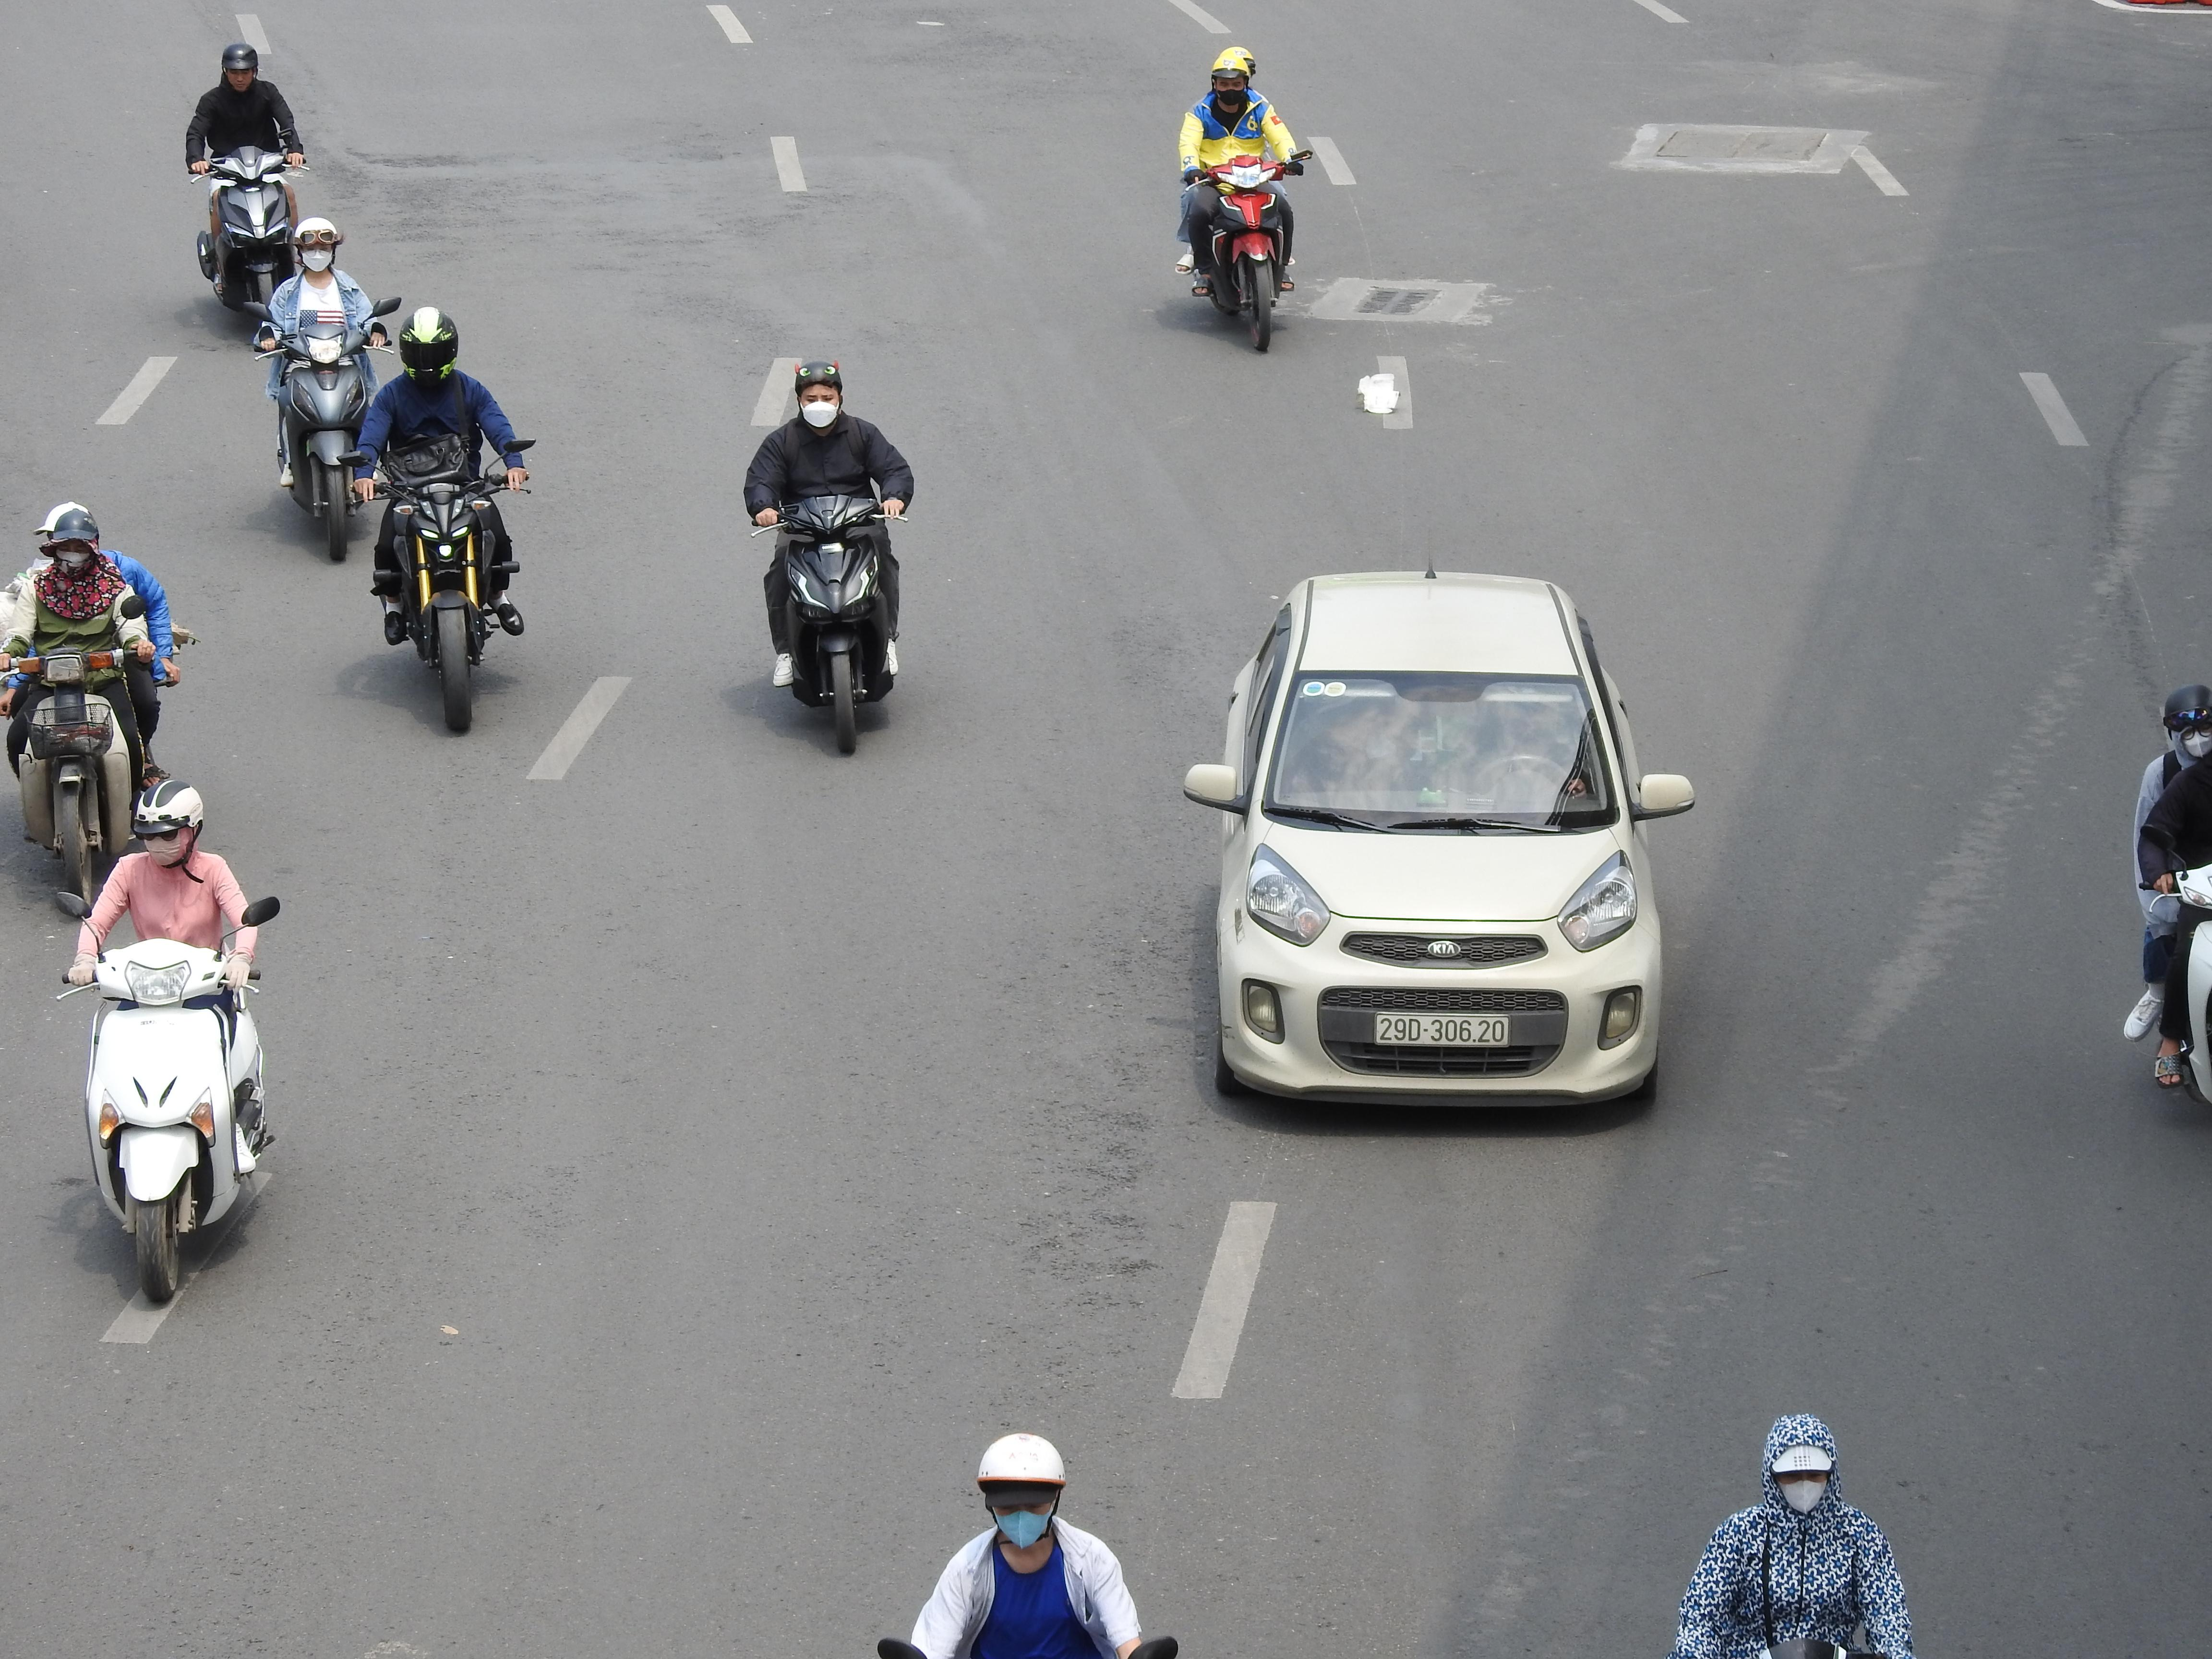BSD: (1374, 1012, 1510, 1047)
car: (1181, 568, 1696, 1114)
motorbike: (66, 777, 282, 1307), (0, 500, 181, 915), (361, 305, 531, 737), (873, 1432, 1177, 1659), (747, 357, 911, 758), (1662, 1412, 1919, 1659), (260, 216, 390, 559), (1176, 47, 1306, 354), (2128, 680, 2212, 1152), (188, 40, 307, 321)
